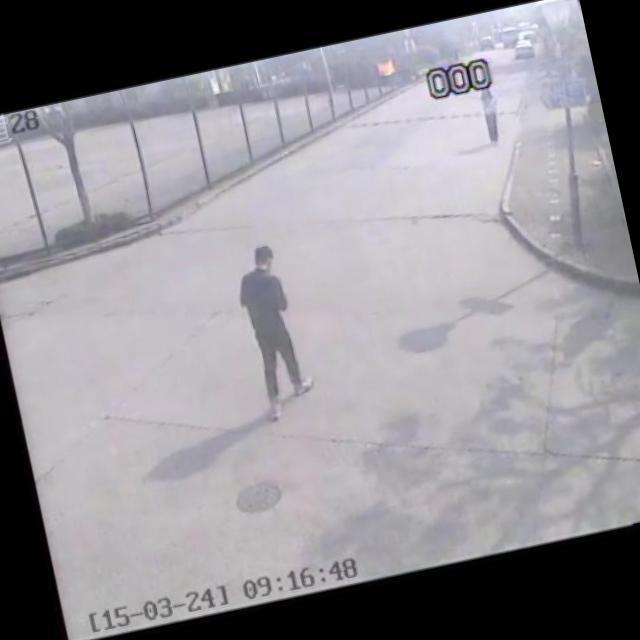person: (217, 220, 336, 439)
